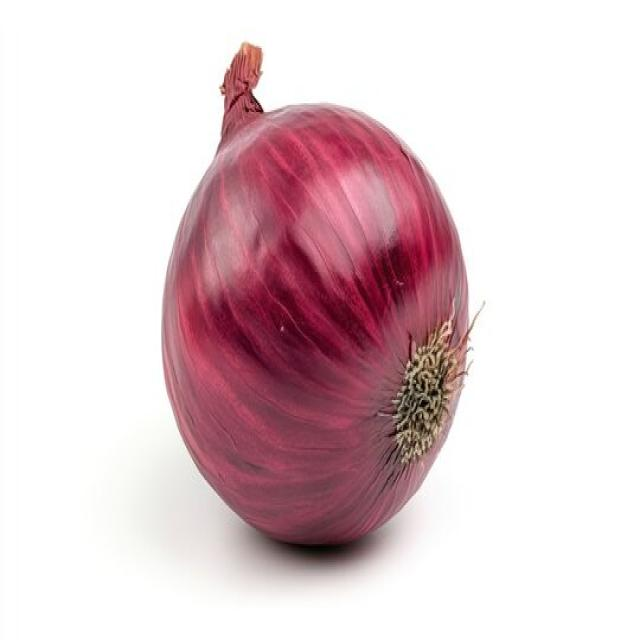Onion: (160, 39, 482, 548)
